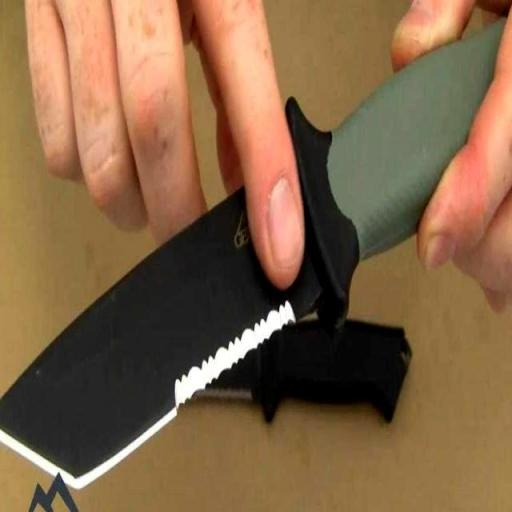knife: (0, 38, 512, 506)
